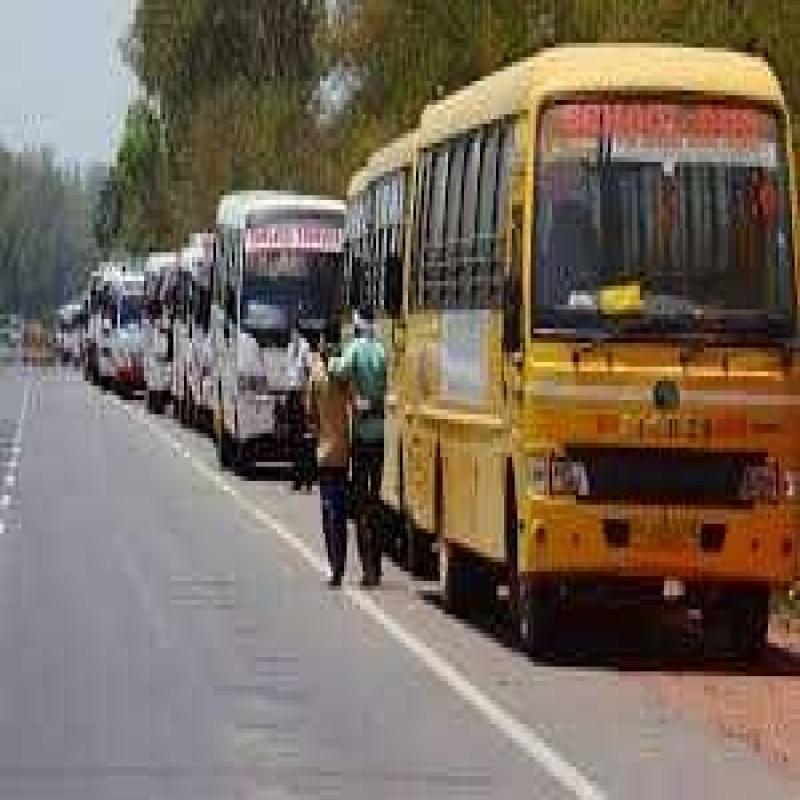bus: (410, 39, 800, 641), (216, 134, 373, 515)
